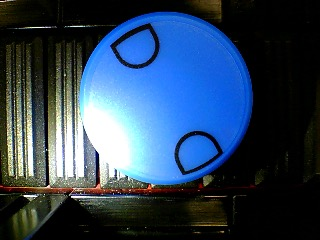MIPO2: (78, 11, 254, 186)
